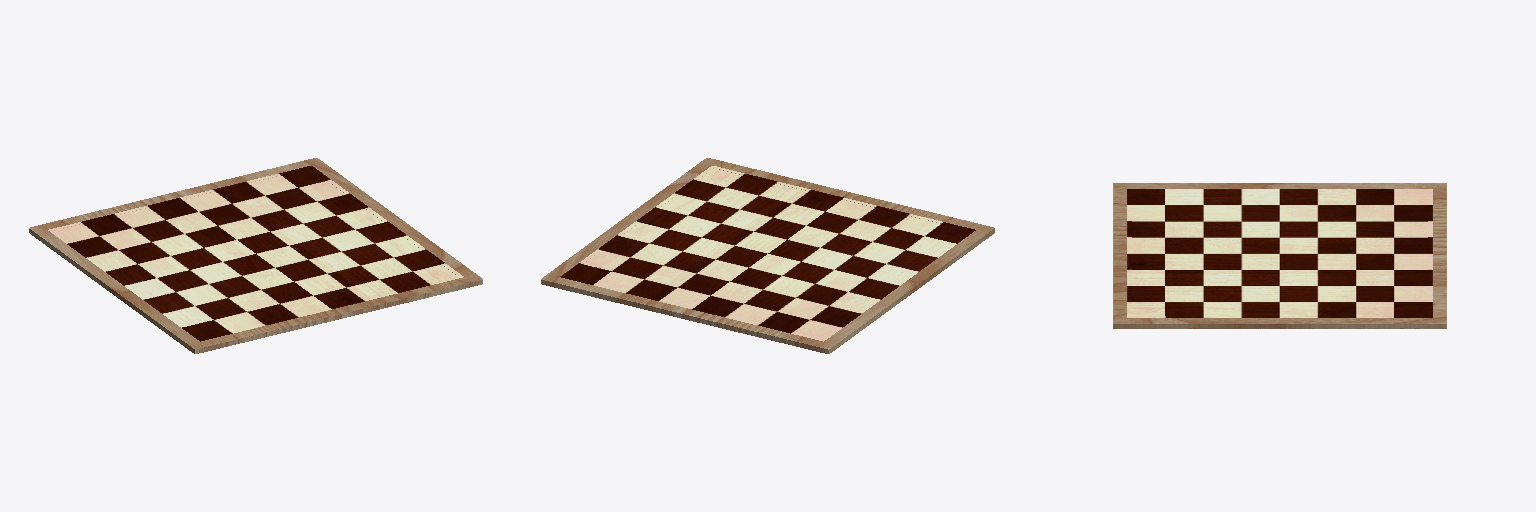
3 renders of one model, left to right at view 1: azimuth 30°, elevation 25°; view 2: azimuth 150°, elevation 25°; view 3: azimuth 270°, elevation 25°, orthographic.
Parts seen in each view (by area): view 1: obj_17; view 2: obj_17; view 3: obj_17.
Boxes of the visible parts, x1,y1,x2,y2 form: obj_17: [29, 158, 482, 353]; obj_17: [541, 158, 994, 353]; obj_17: [1113, 183, 1446, 328].
Size of the model in its own units: 7.59 by 0.1231 by 7.59.
Materials: 1 (1 with a texture image).